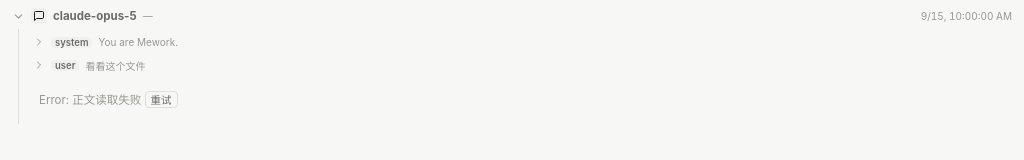
HistoryPane › keeps the history visible when one entry cannot be read, and retries it
Expected: the text "看看这个文件" is shown, [85, 60, 145, 72]
Expected: the message shows "正文读取失败", [39, 93, 141, 107]
Click the button "重试".
click(161, 100)  # box [145, 91, 178, 108]
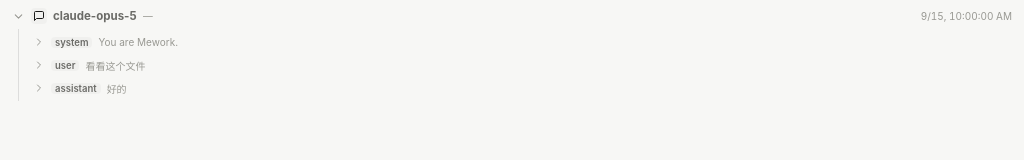
Result: the text "好的" is shown at [107, 82, 127, 94]
Result: the message "Error: 正文读取失败 重试" is gone
